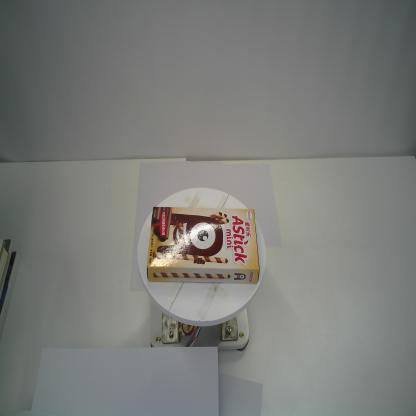Dessert: (146, 205, 261, 286)
